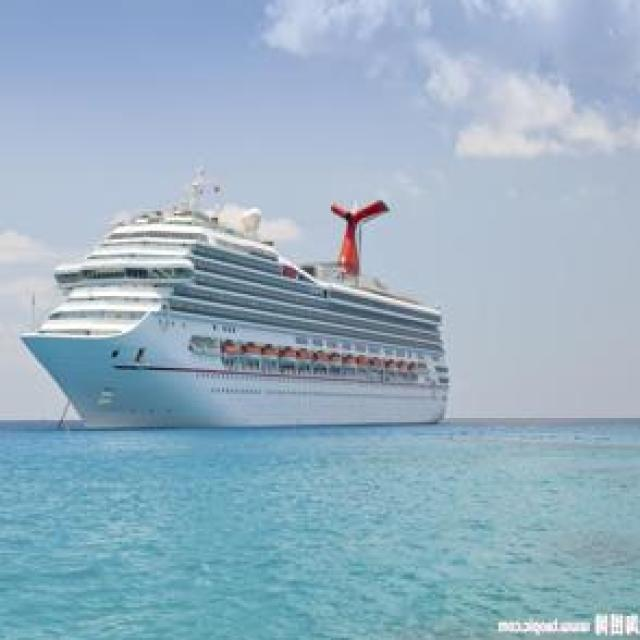passenger ship: (28, 168, 456, 451)
